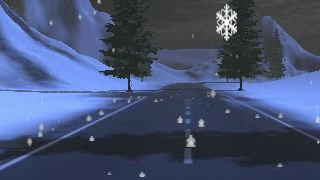Lane: (0, 83, 318, 179)
